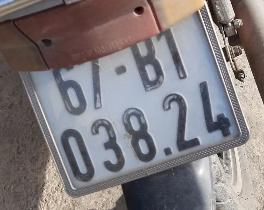0: (55, 124, 102, 186)
1: (152, 23, 191, 84)
2: (156, 89, 204, 154)
3: (86, 113, 132, 176)
4: (191, 76, 236, 142)
6: (45, 56, 92, 122)
7: (72, 50, 116, 113)
8: (117, 103, 161, 164)
B: (124, 31, 170, 96)
